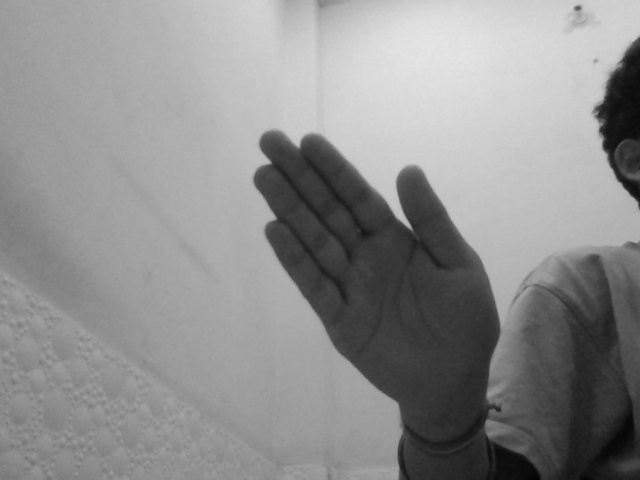Hello: (250, 129, 505, 417)
